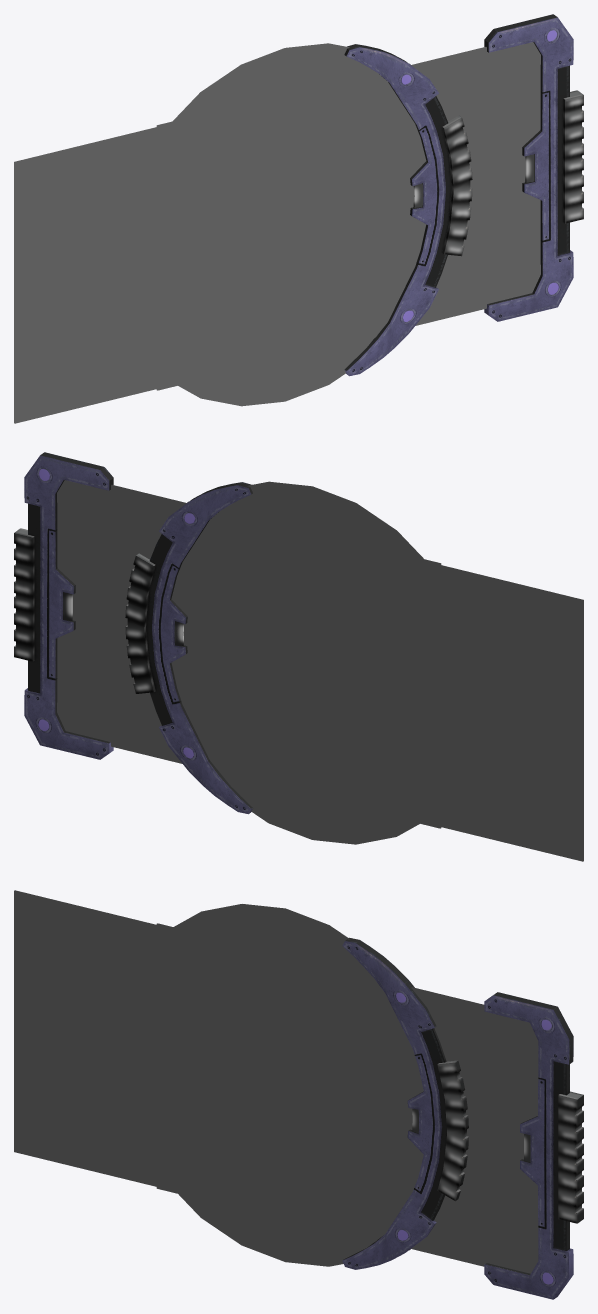
File: NeonSign.fbx
3 views of the same model, one above another, from view 1: azimuth 30°, elevation 25°; view 2: azimuth 150°, elevation 25°; view 3: azimuth 330°, elevation 25° (orthographic).
Visible parts, largest first — view 1: PanelSquare, PanelRectangle, SignRectangle, SignCircle, PanelCircle; view 2: PanelCircle, PanelRectangle, SignRectangle, SignCircle; view 3: PanelRectangle, PanelSquare, SignRectangle, SignCircle, PanelCircle.
Part boxes in pixels (<box>): PanelSquare: <box>156,63,410,390</box>; PanelRectangle: <box>14,42,540,423</box>; SignRectangle: <box>484,14,583,321</box>; SignCircle: <box>344,44,472,376</box>; PanelCircle: <box>173,43,375,406</box>; PanelCircle: <box>171,481,480,844</box>; PanelRectangle: <box>57,480,583,861</box>; SignRectangle: <box>14,452,113,759</box>; SignCircle: <box>125,482,252,814</box>; PanelRectangle: <box>14,890,538,1273</box>; PanelSquare: <box>156,923,410,1250</box>; SignRectangle: <box>484,992,583,1299</box>; SignCircle: <box>342,937,468,1269</box>; PanelCircle: <box>173,904,374,1266</box>.
Bounding box in the file's own units: 6.71 × 4 × 0.135.
